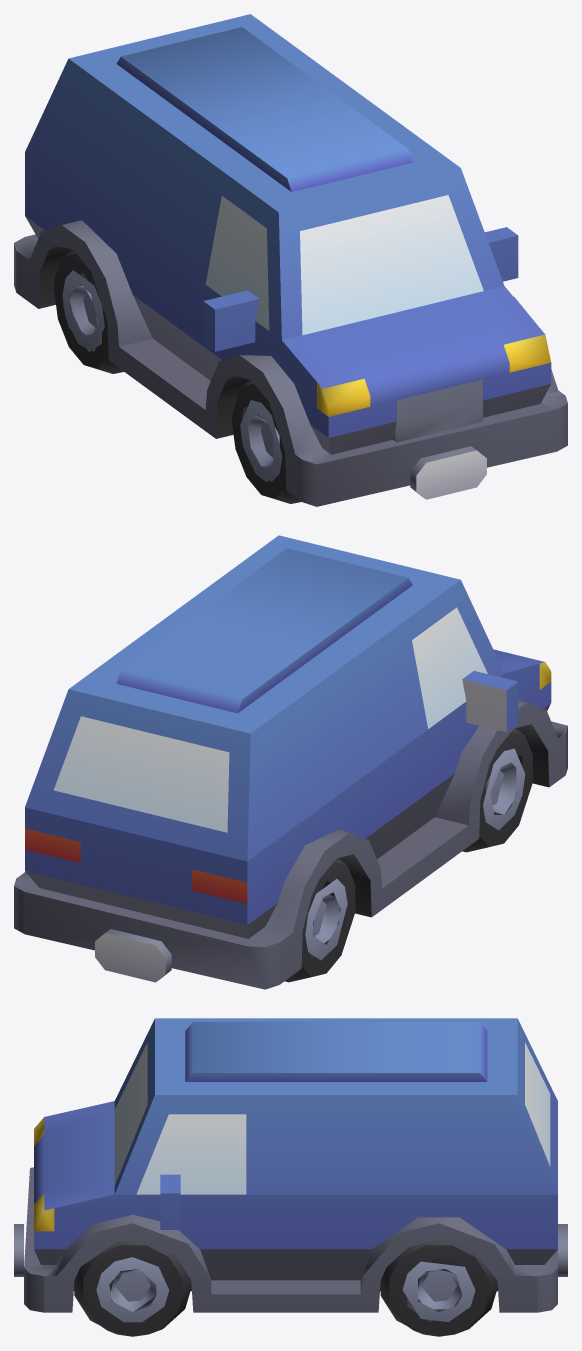
File: cc0-van-lod1.glb
The picture shows the model from 3 angles, top to bottom: view 1: azimuth 30°, elevation 25°; view 2: azimuth 150°, elevation 25°; view 3: azimuth 270°, elevation 25°; orthographic projection. The views are drawn at different scales.
Parts seen in each view (by area): view 1: part_0; view 2: part_0; view 3: part_0.
Boxes of the visible parts, x1,y1,x2,y2 form: part_0: (14,14,567,506); part_0: (14,535,567,989); part_0: (14,1018,567,1336).
Bounding box in the file's own units: 1.5 × 1.35 × 2.75.
1 material, 1 textured.
